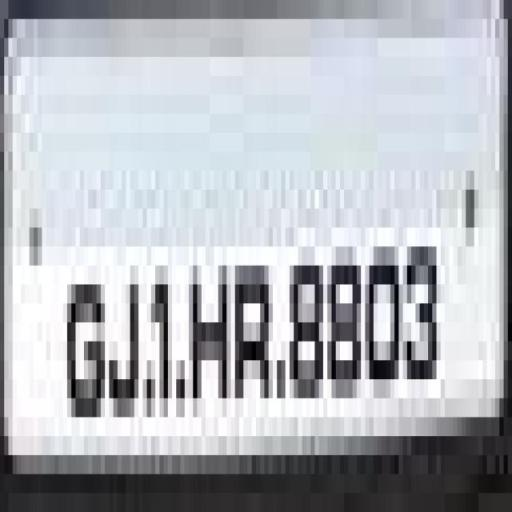number plate: (21, 0, 512, 493)
